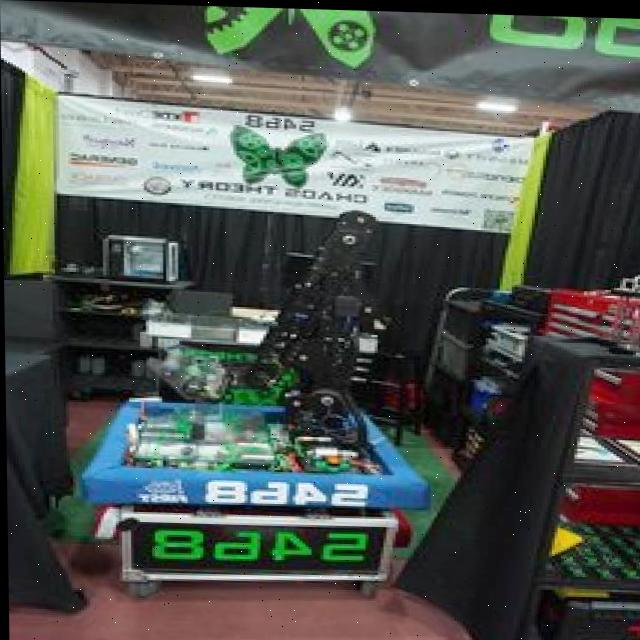robot: (45, 204, 452, 515)
